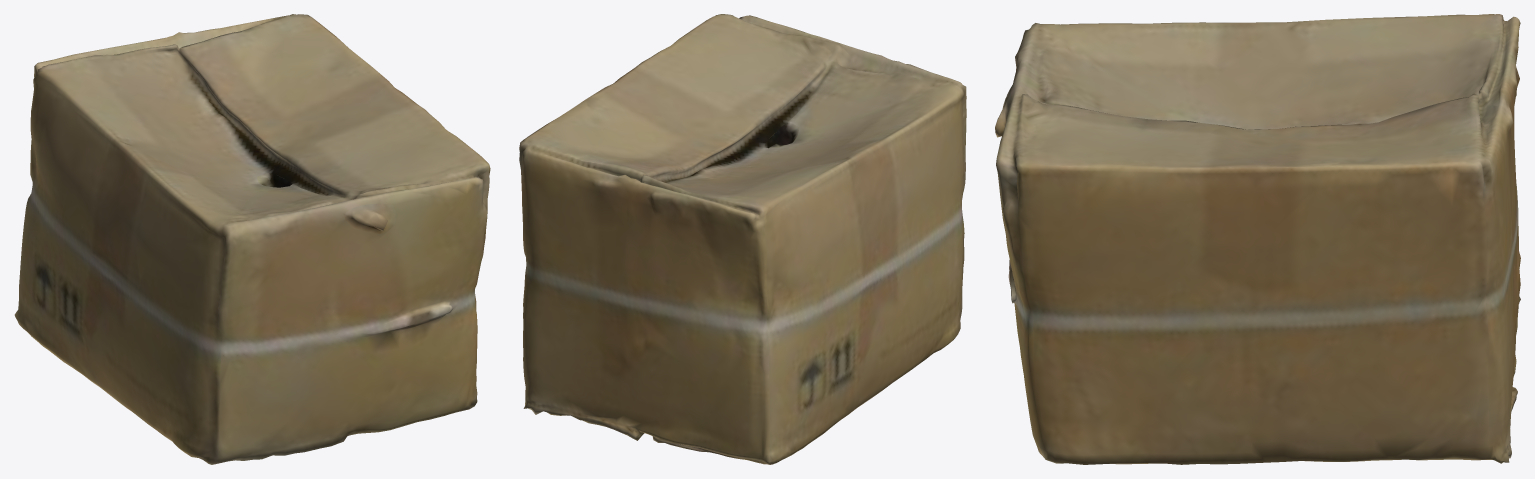
The model's file is cardboard_box_01.gltf.
3 renders of one model, left to right at view 1: azimuth 30°, elevation 25°; view 2: azimuth 150°, elevation 25°; view 3: azimuth 270°, elevation 25°, orthographic. The views are drawn at different scales.
Visible parts, largest first — view 1: cardboard_box_01; view 2: cardboard_box_01; view 3: cardboard_box_01.
Part boxes in pixels (box(x1,y1,x2,y2)): cardboard_box_01: box(14, 14, 490, 464); cardboard_box_01: box(519, 14, 966, 464); cardboard_box_01: box(995, 14, 1520, 464).
Bounding box in the file's own units: 0.387 × 0.3418 × 0.5159.
1 material, 1 textured.
